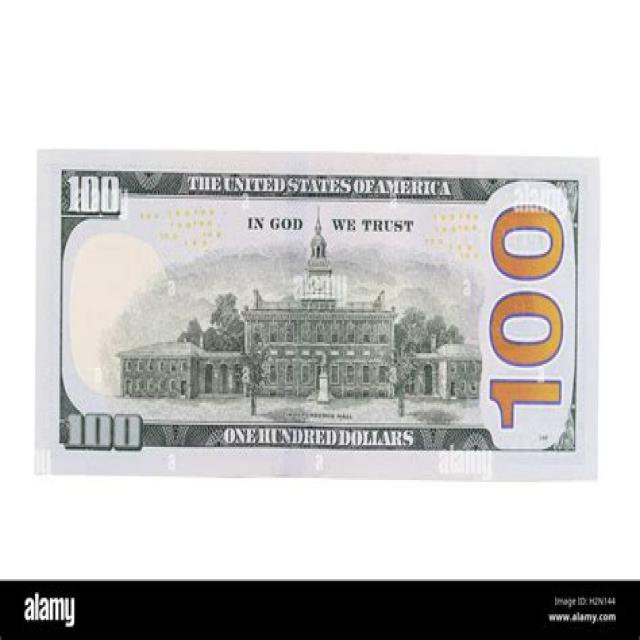Hundred: (35, 151, 599, 480)
